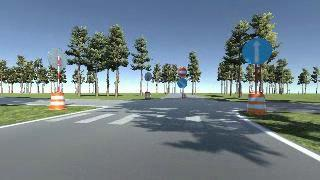go_ahead: (242, 38, 272, 65)
